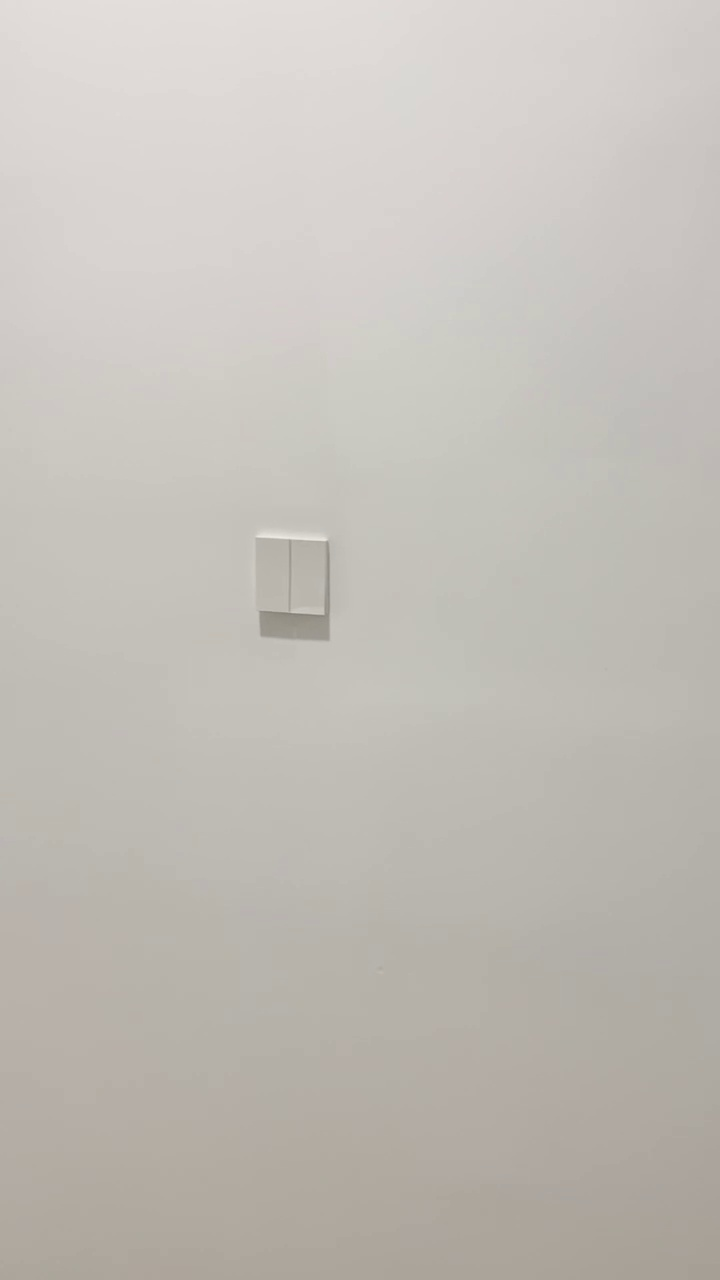button: (248, 531, 334, 621)
